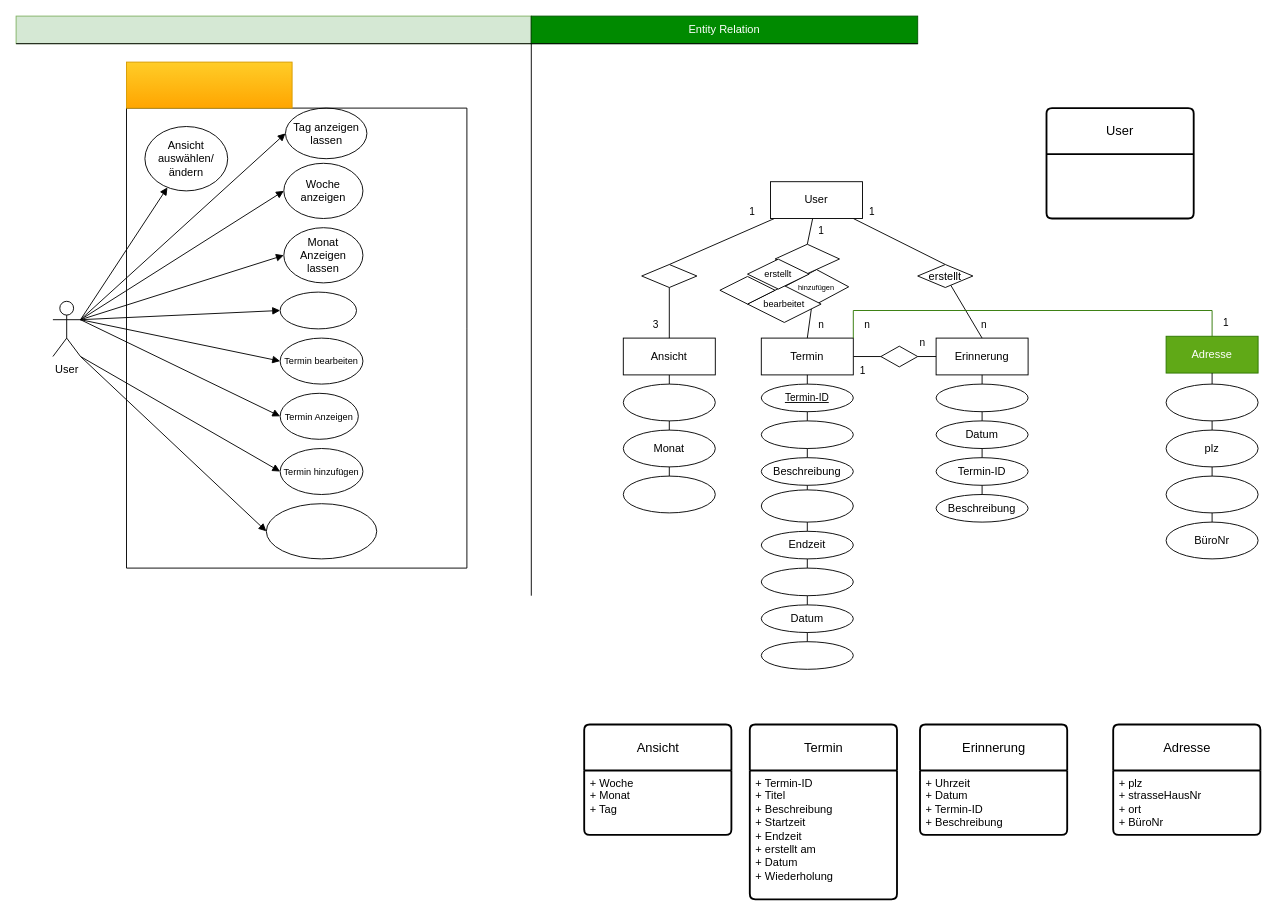
Image size: 1277x916. Some labels were removed from this diagram. Each missing label, with the centre of its shape:
"Anwendungsfalldiagramm" goes at point 273,29.
"anzeigen" goes at point 807,258.
"erstellt am" goes at point 806,581.
"hat" goes at point 899,356.
"Kalender-Webanwendung" goes at point 209,84.
"löscht" goes at point 747,290.
"ort" goes at point 1211,402.
"Startzeit" goes at point 806,505.
"strasseHausNR" goes at point 1211,494.
"Tag" goes at point 668,494.
"Termin Erinnerung erstellen" goes at point 321,531.
"Termin löschen" goes at point 317,310.
"Titel" goes at point 806,434.
"Uhrzeit" goes at point 981,397.
"Wiederholung" goes at point 806,655.
"Woche" goes at point 668,402.
"wählt" goes at point 669,276.
